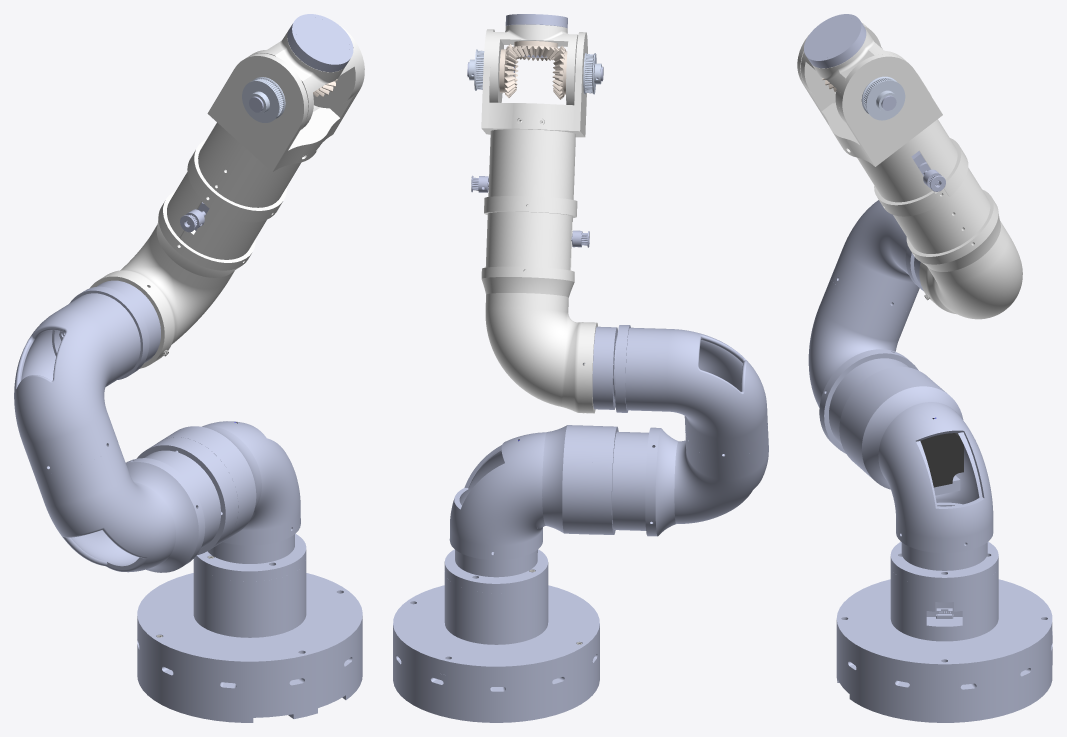
File: mechanical_arm-09-21-26.glb
3 views of the same model, side by side, from view 1: azimuth 30°, elevation 25°; view 2: azimuth 150°, elevation 25°; view 3: azimuth 270°, elevation 25° (orthographic). The views are drawn at different scales.
Visible parts, largest first — view 1: topj2-1, bottom-j2-nema23-v2_wHole-1, BaseHousingLid-Shahmeen-Aug8-1, base-housing-Shahmeen-aug1-c-clamp-1, j1shoulder-nema23_wMount-1, CapForDifferentialV2_Mar14-1, 3rd_joint_bend-1, base-housing-1, top-pvc-aug10-1, bottom-pvc-1, DifferentialHousing-1, stepper_base_sweep-1 (+9 smaller); view 2: j1shoulder-nema23_wMount-1, topj2-1, 3rd_joint_bend-1, BaseHousingLid-Shahmeen-Aug8-1, base-housing-Shahmeen-aug1-c-clamp-1, bottom-j2-nema23-v2_wHole-1, top-pvc-aug10-1, base-housing-1, bottom-pvc-1, CapForDifferentialV2_Mar14-1, outer-ring-Nema23-1, DifferentialHousing-1 (+10 smaller); view 3: j1shoulder-nema23_wMount-1, BaseHousingLid-Shahmeen-Aug8-1, base-housing-Shahmeen-aug1-c-clamp-1, 3rd_joint_bend-1, bottom-j2-nema23-v2_wHole-1, CapForDifferentialV2_Mar14-1, topj2-1, base-housing-1, top-pvc-aug10-1, bottom-pvc-1, stepper_base_sweep-1, DifferentialHousing-1 (+9 smaller).
Part boxes in pixels (x1=…): topj2-1: x1=14, y1=293, x2=140, y2=474; bottom-j2-nema23-v2_wHole-1: x1=34, y1=443, x2=205, y2=572; BaseHousingLid-Shahmeen-Aug8-1: x1=137, y1=573, x2=362, y2=676; base-housing-Shahmeen-aug1-c-clamp-1: x1=137, y1=631, x2=362, y2=722; j1shoulder-nema23_wMount-1: x1=158, y1=421, x2=300, y2=545; CapForDifferentialV2_Mar14-1: x1=207, y1=25, x2=364, y2=171; 3rd_joint_bend-1: x1=89, y1=191, x2=255, y2=368; base-housing-1: x1=193, y1=559, x2=306, y2=637; top-pvc-aug10-1: x1=187, y1=122, x2=301, y2=222; bottom-pvc-1: x1=167, y1=172, x2=266, y2=259; DifferentialHousing-1: x1=250, y1=30, x2=360, y2=129; stepper_base_sweep-1: x1=194, y1=533, x2=306, y2=581; j1shoulder-nema23_wMount-1: x1=449, y1=425, x2=596, y2=560; topj2-1: x1=625, y1=327, x2=767, y2=459; 3rd_joint_bend-1: x1=481, y1=266, x2=597, y2=413; BaseHousingLid-Shahmeen-Aug8-1: x1=393, y1=585, x2=599, y2=680; base-housing-Shahmeen-aug1-c-clamp-1: x1=393, y1=638, x2=599, y2=722; bottom-j2-nema23-v2_wHole-1: x1=645, y1=427, x2=768, y2=536; top-pvc-aug10-1: x1=484, y1=120, x2=577, y2=217; base-housing-1: x1=444, y1=571, x2=548, y2=644; bottom-pvc-1: x1=485, y1=205, x2=572, y2=271; CapForDifferentialV2_Mar14-1: x1=481, y1=29, x2=587, y2=137; outer-ring-Nema23-1: x1=612, y1=431, x2=648, y2=530; DifferentialHousing-1: x1=489, y1=24, x2=578, y2=105; j1shoulder-nema23_wMount-1: x1=848, y1=374, x2=993, y2=552; BaseHousingLid-Shahmeen-Aug8-1: x1=836, y1=579, x2=1052, y2=678; base-housing-Shahmeen-aug1-c-clamp-1: x1=836, y1=631, x2=1052, y2=722; 3rd_joint_bend-1: x1=906, y1=189, x2=1022, y2=319; bottom-j2-nema23-v2_wHole-1: x1=808, y1=278, x2=918, y2=453; CapForDifferentialV2_Mar14-1: x1=797, y1=23, x2=942, y2=166; topj2-1: x1=831, y1=200, x2=919, y2=311; base-housing-1: x1=890, y1=566, x2=998, y2=641; top-pvc-aug10-1: x1=857, y1=119, x2=968, y2=216; bottom-pvc-1: x1=893, y1=168, x2=990, y2=253; stepper_base_sweep-1: x1=890, y1=542, x2=998, y2=587; DifferentialHousing-1: x1=800, y1=24, x2=904, y2=122.
Bounding box in the file's own units: 0.3636 × 0.676 × 0.2364.
